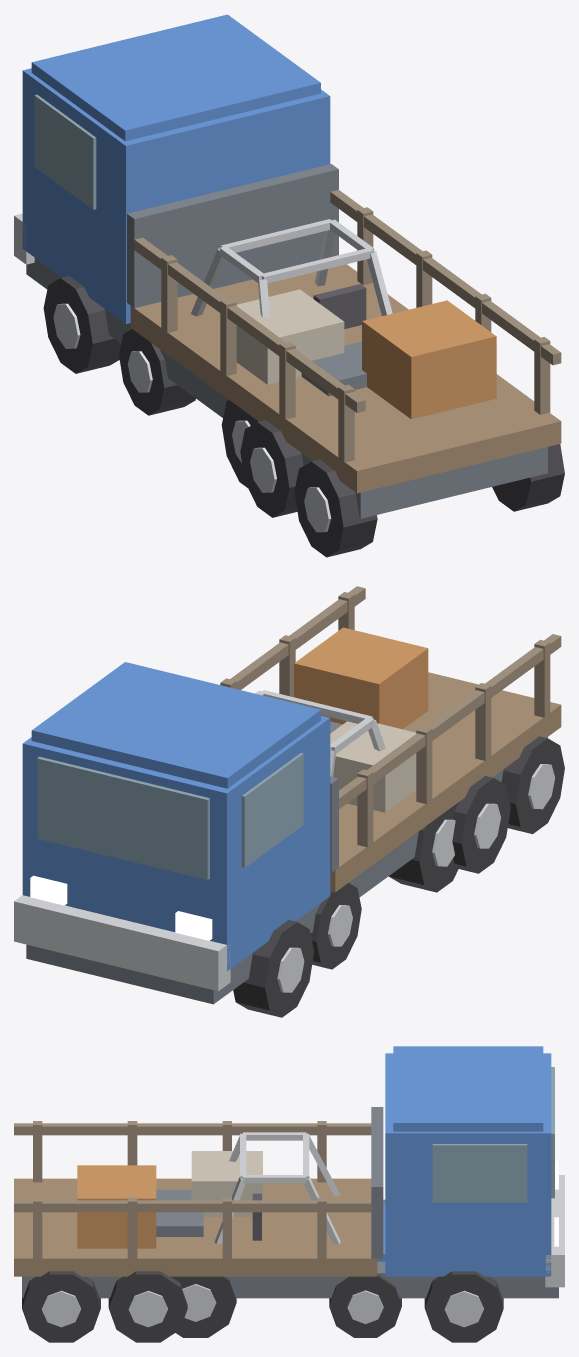
File: map_vehicles.glb
The picture shows the model from 3 angles, top to bottom: view 1: azimuth 30°, elevation 25°; view 2: azimuth 150°, elevation 25°; view 3: azimuth 270°, elevation 25°; orthographic projection. The views are drawn at different scales.
Parts seen in each view (by area): view 1: flatbed, buggy; view 2: flatbed, buggy; view 3: flatbed, buggy.
Boxes of the visible parts, box(x1,y1,x2,y2) form: flatbed: box(14, 14, 564, 557); buggy: box(119, 219, 392, 487); flatbed: box(14, 586, 564, 1017); buggy: box(255, 690, 459, 969); flatbed: box(14, 1046, 564, 1342); buggy: box(156, 1132, 401, 1337).
Bounding box in the file's own units: 2.66 × 3 × 6.97.
